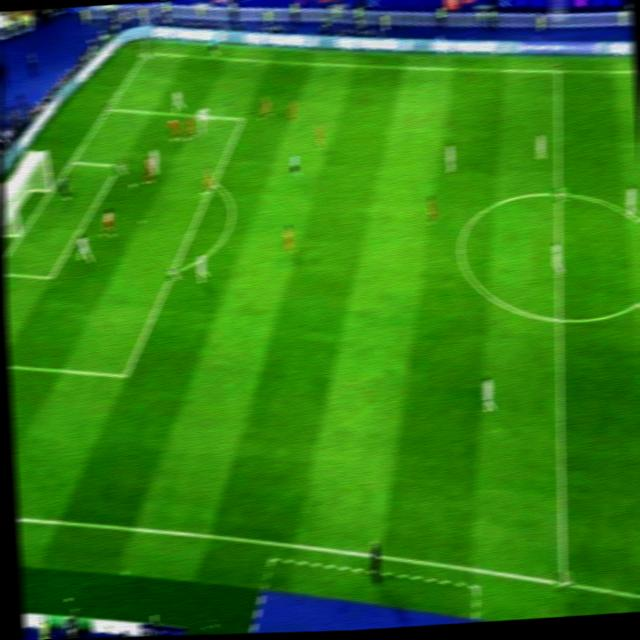bigarea_bottom_inner: (117, 368, 134, 382)
bigarea_top_inner: (235, 111, 249, 125)
bigarea_top_outter: (101, 101, 115, 117)
bottom_arc_area_intersection: (166, 266, 181, 280)
corner: (138, 47, 152, 59)
halfcircle_bottom: (550, 312, 568, 328)
halfcircle_top: (551, 186, 567, 202)
midline_bottom_intersection: (555, 570, 573, 593)
midline_top_intersection: (552, 63, 564, 79)
smallarea_bottom_inner: (42, 270, 58, 285)
smallarea_top_inner: (112, 156, 126, 176)
smallarea_top_outter: (66, 154, 79, 169)
